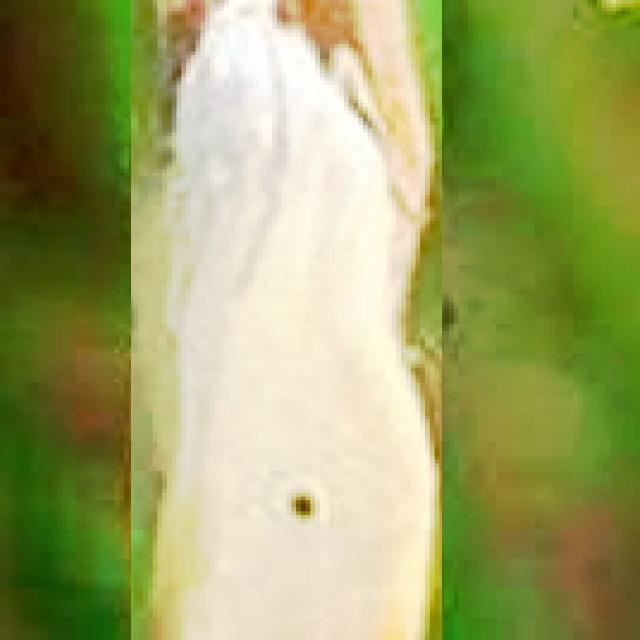stem-borer: (131, 0, 442, 640)
